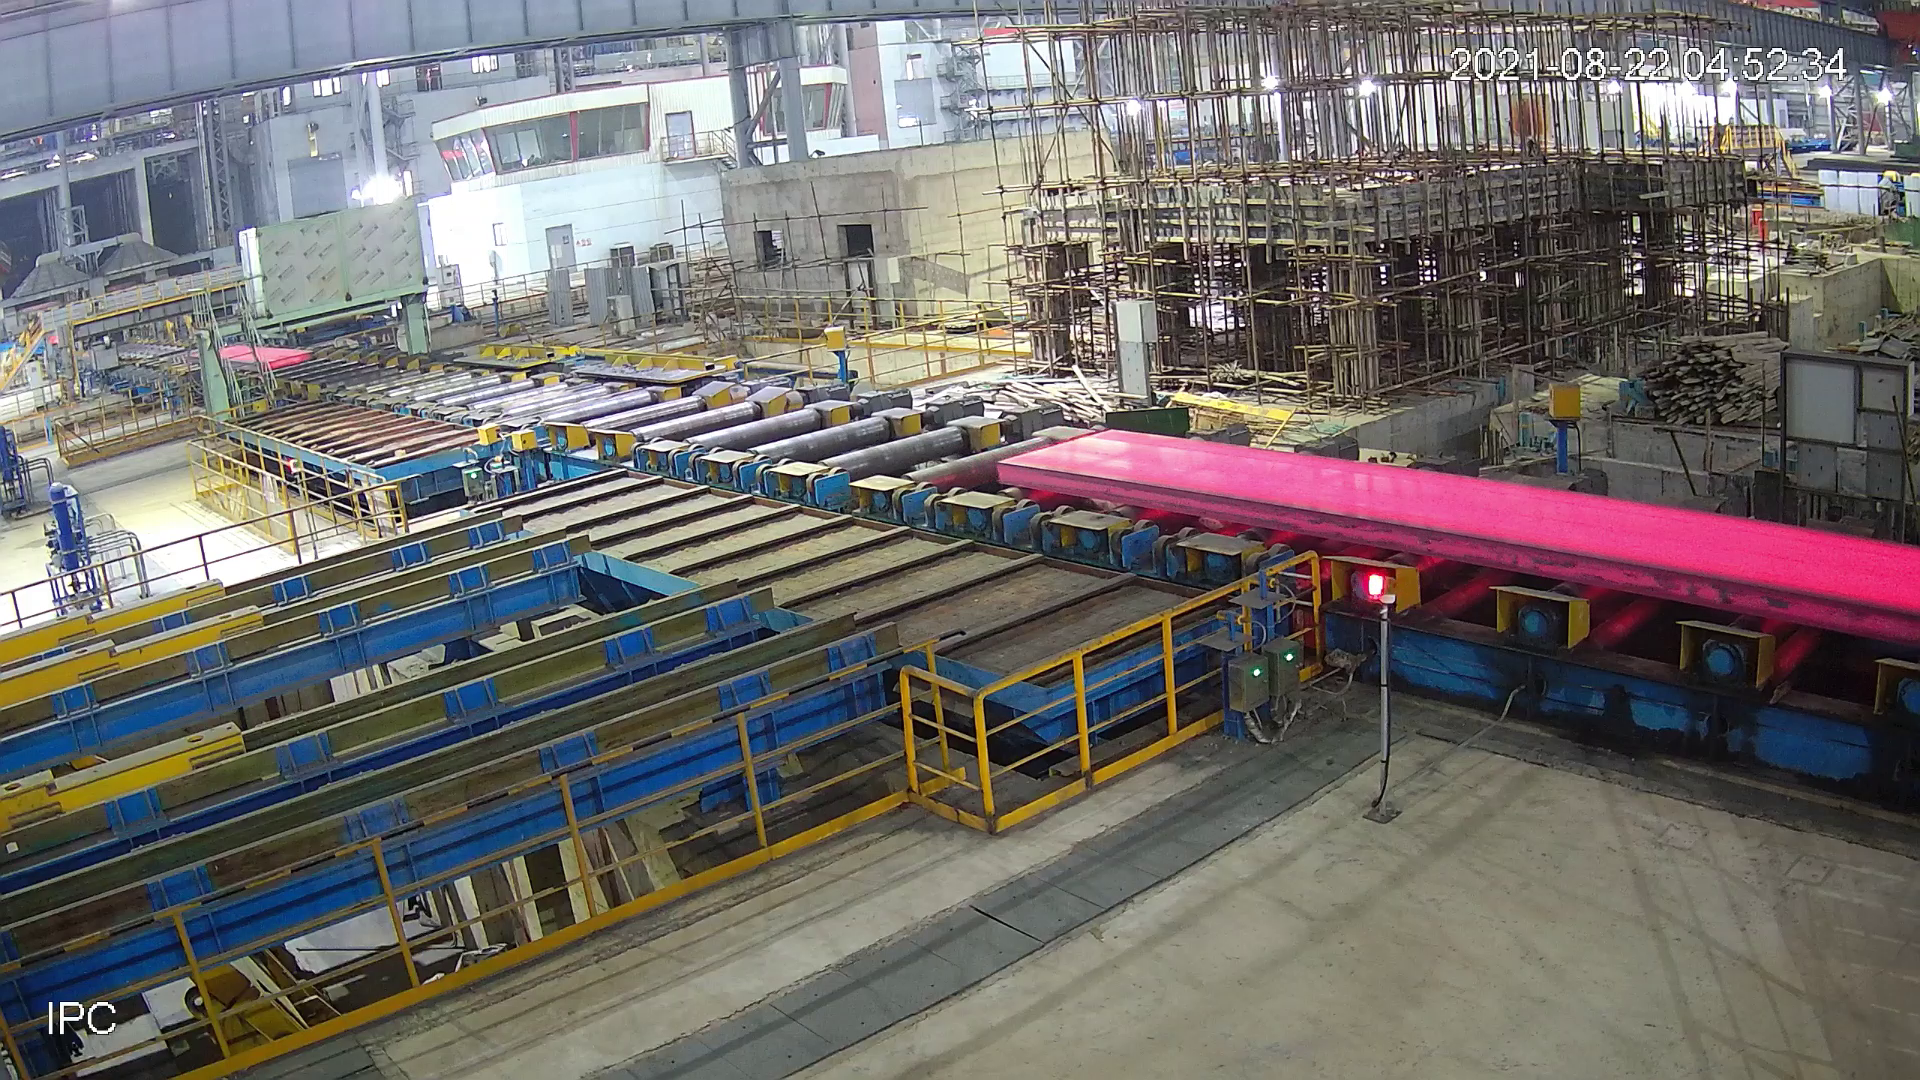slab: (986, 433, 1917, 658), (187, 342, 315, 371)
